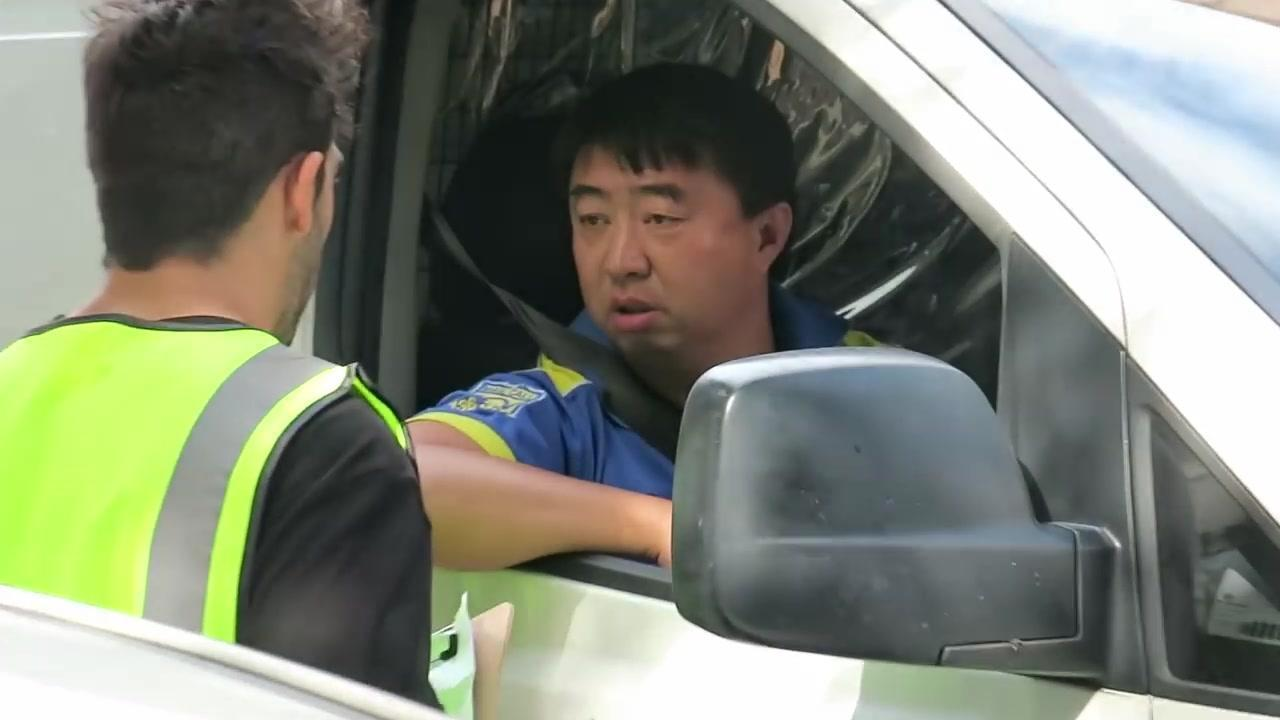vest: (0, 315, 415, 645)
